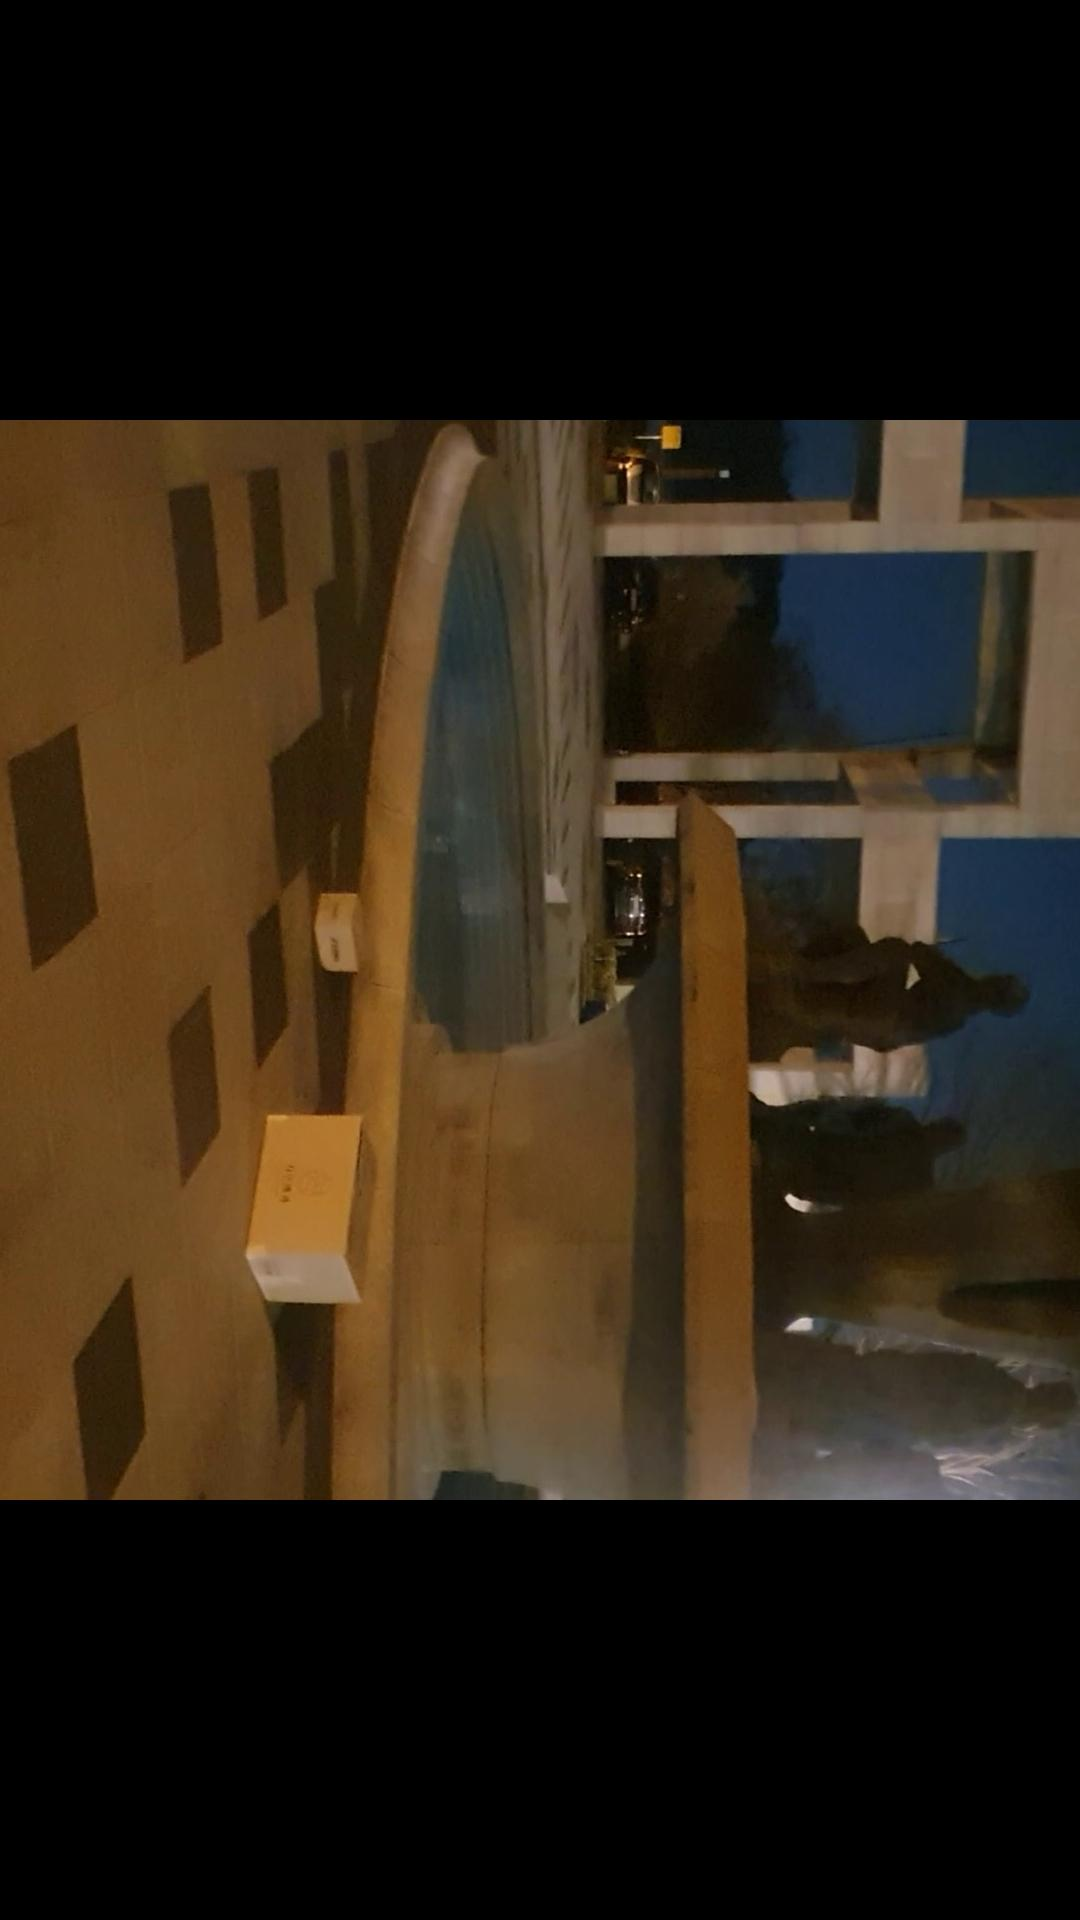Box: (243, 1102, 392, 1313), (315, 862, 372, 982)
